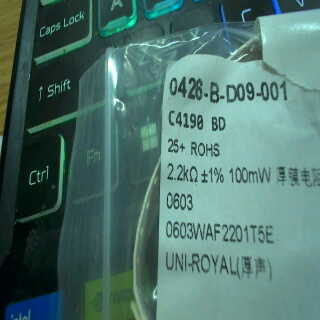2.2kR: (165, 159, 200, 186)
